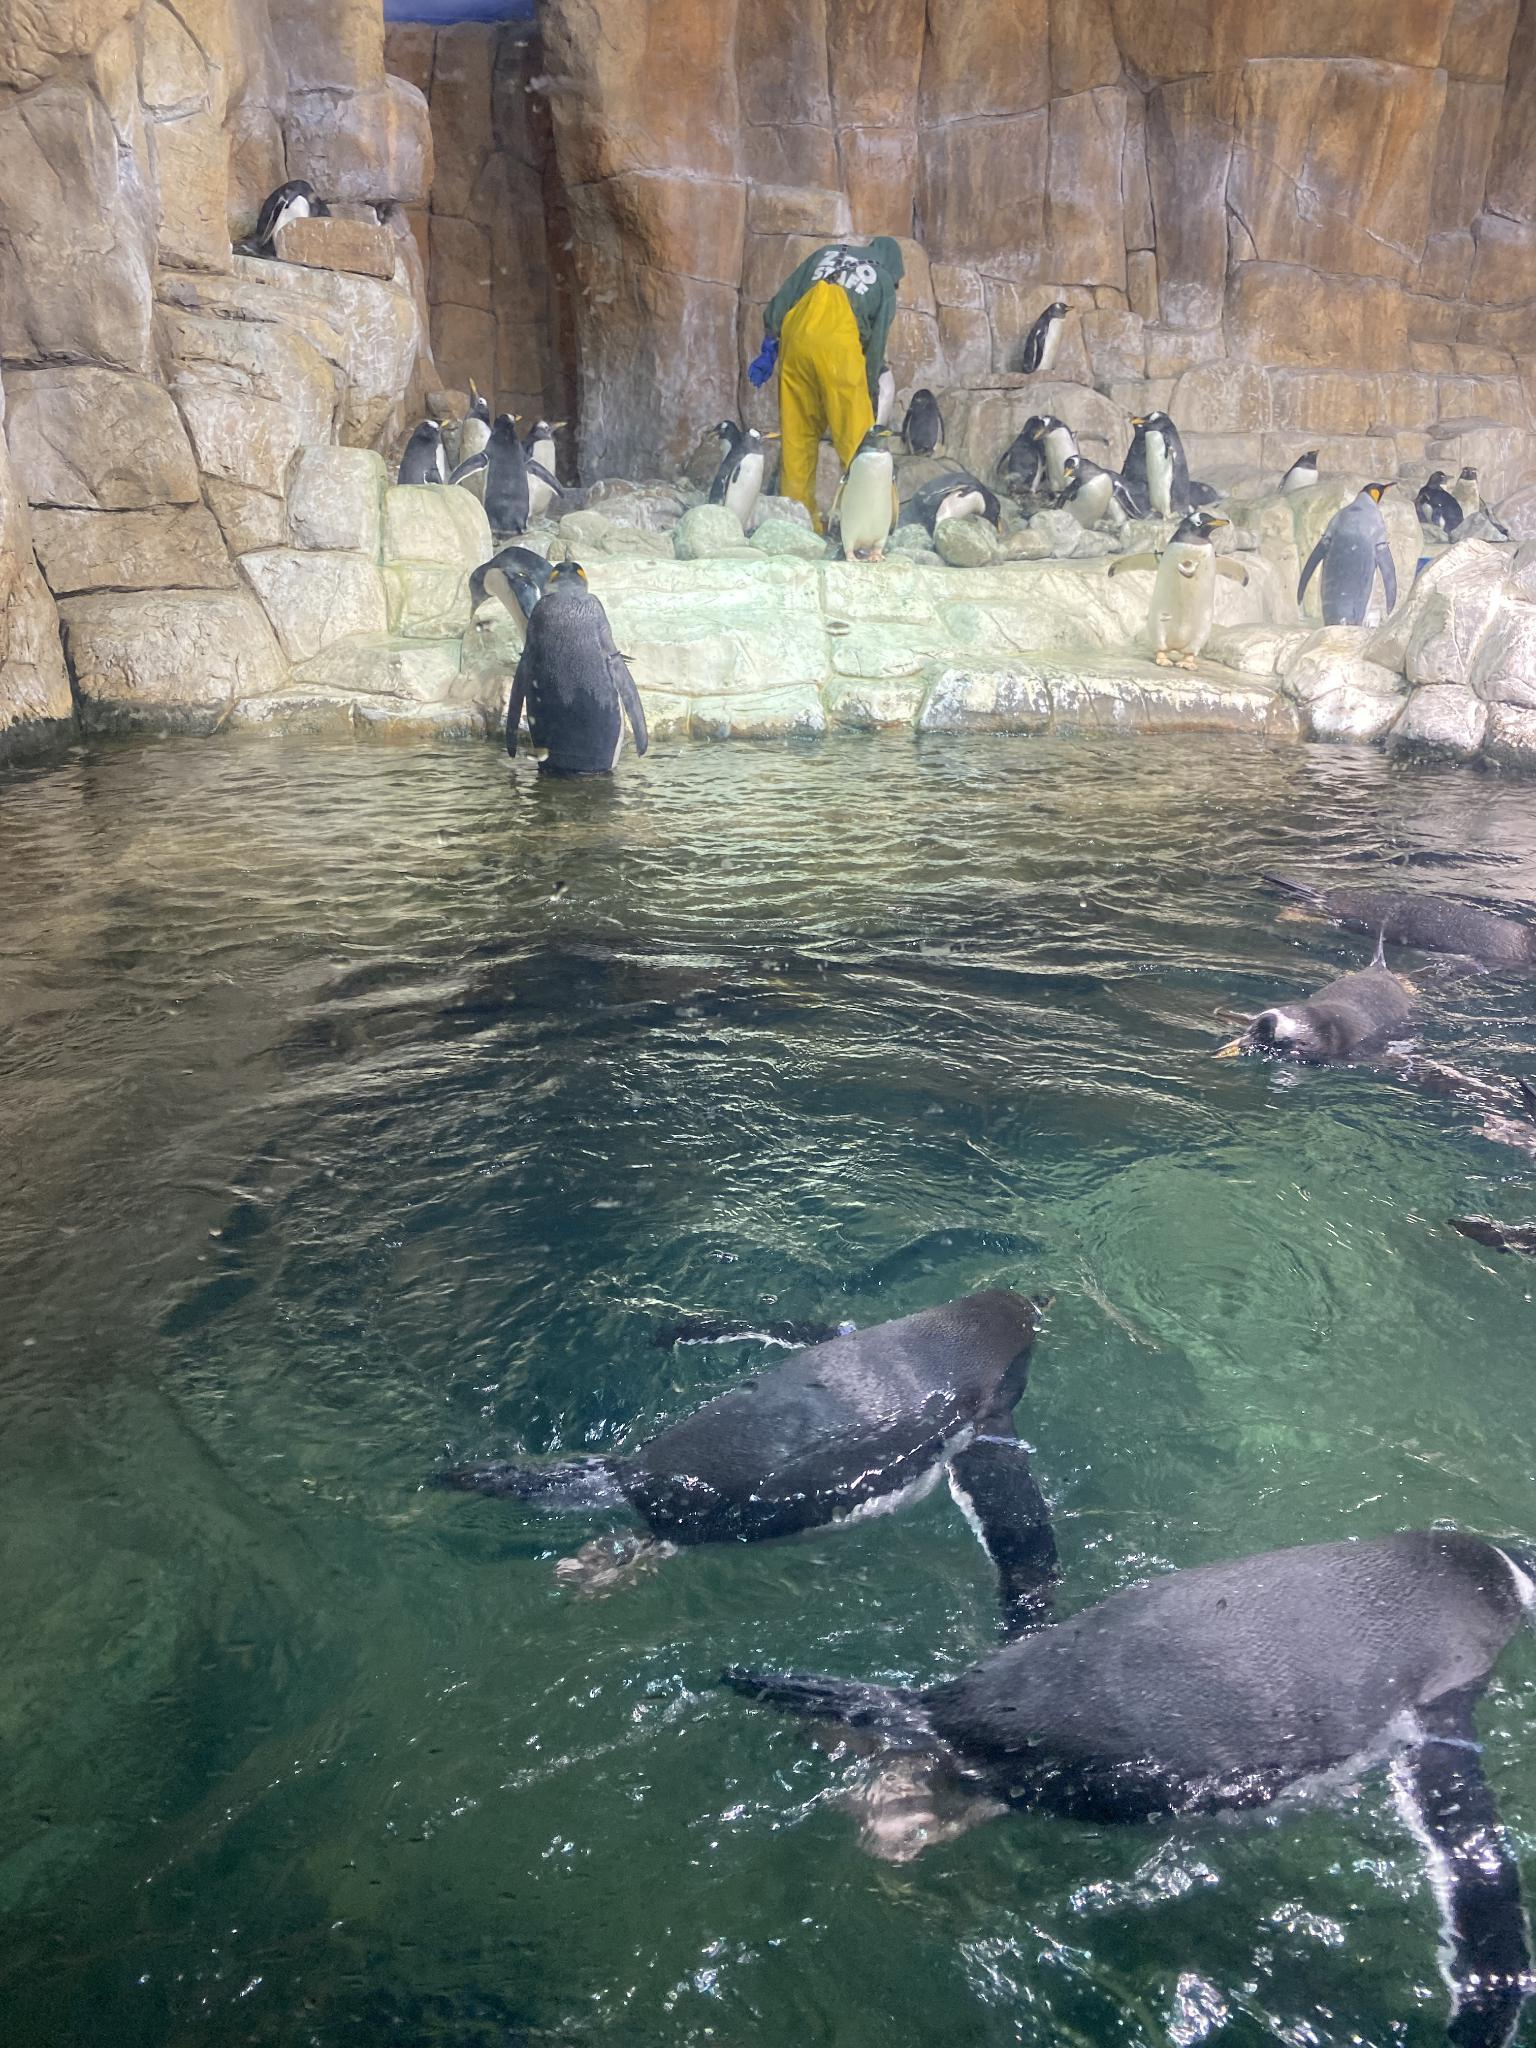penguin: (843, 1509, 1522, 1907), (460, 1275, 1068, 1583), (1202, 935, 1441, 1101), (511, 556, 647, 788), (1120, 504, 1242, 671), (1307, 462, 1397, 655), (1130, 407, 1211, 522), (481, 416, 546, 545), (700, 419, 778, 526), (515, 410, 580, 533), (398, 407, 459, 517), (249, 174, 319, 261), (1024, 285, 1079, 392), (458, 370, 501, 499), (1412, 462, 1463, 559), (1448, 448, 1500, 536), (1040, 418, 1089, 502), (901, 384, 950, 467), (1277, 446, 1329, 508)
